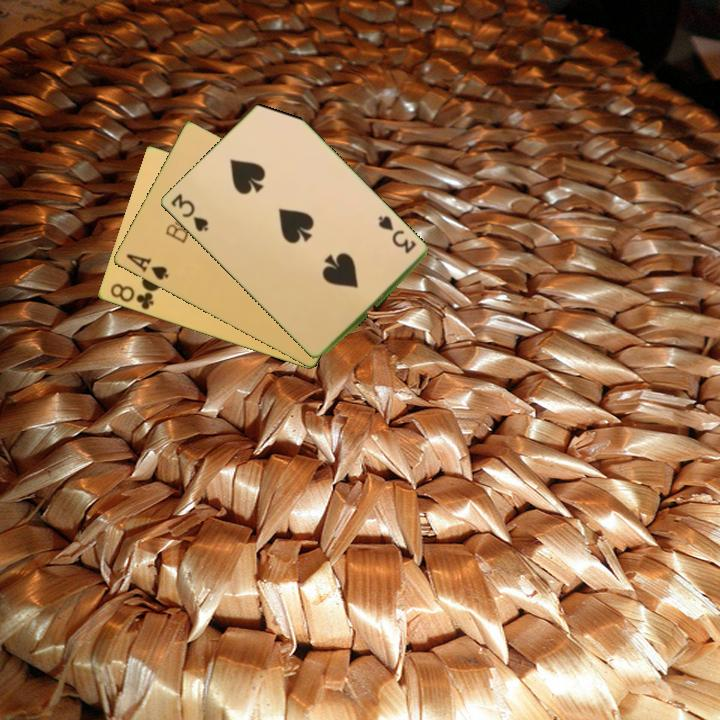3s: (374, 212, 419, 257), (167, 190, 211, 235)
8c: (106, 280, 157, 313)
As: (122, 250, 171, 283)
